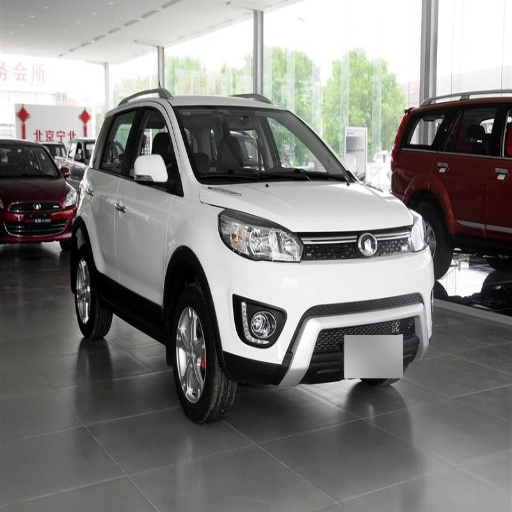front_bumper: (207, 225, 431, 384)
front_right_door: (118, 102, 176, 302)
front_right_light: (219, 211, 304, 261)
